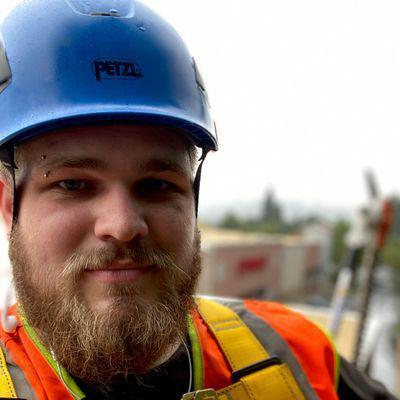helmet: (0, 0, 219, 152)
